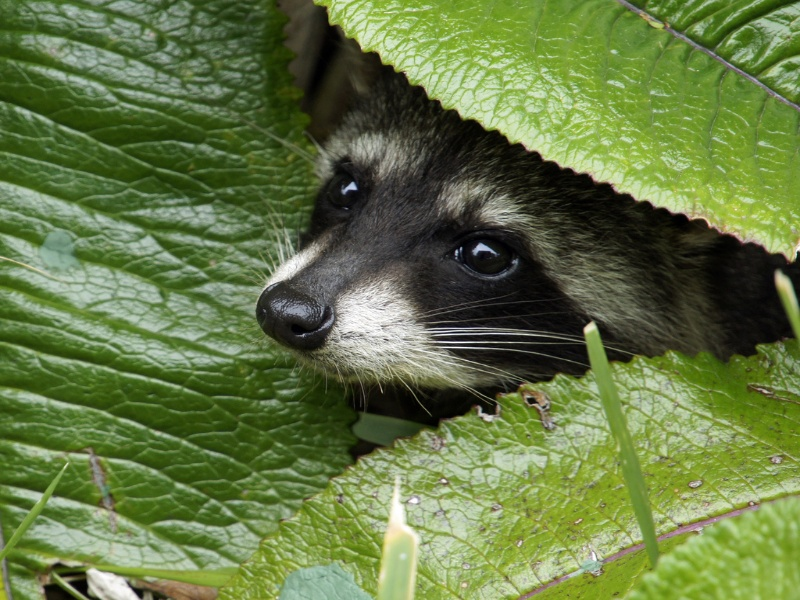raccoon: (247, 74, 739, 426)
